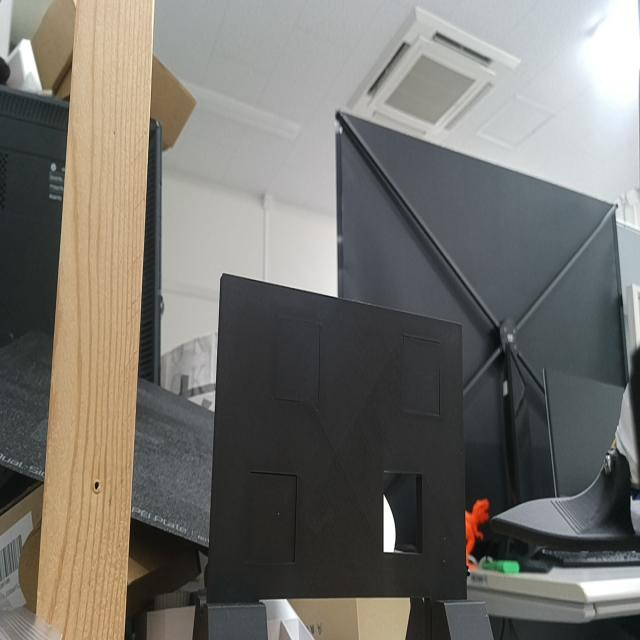Obstacle: (384, 473, 423, 554)
Wall: (212, 273, 466, 600)
